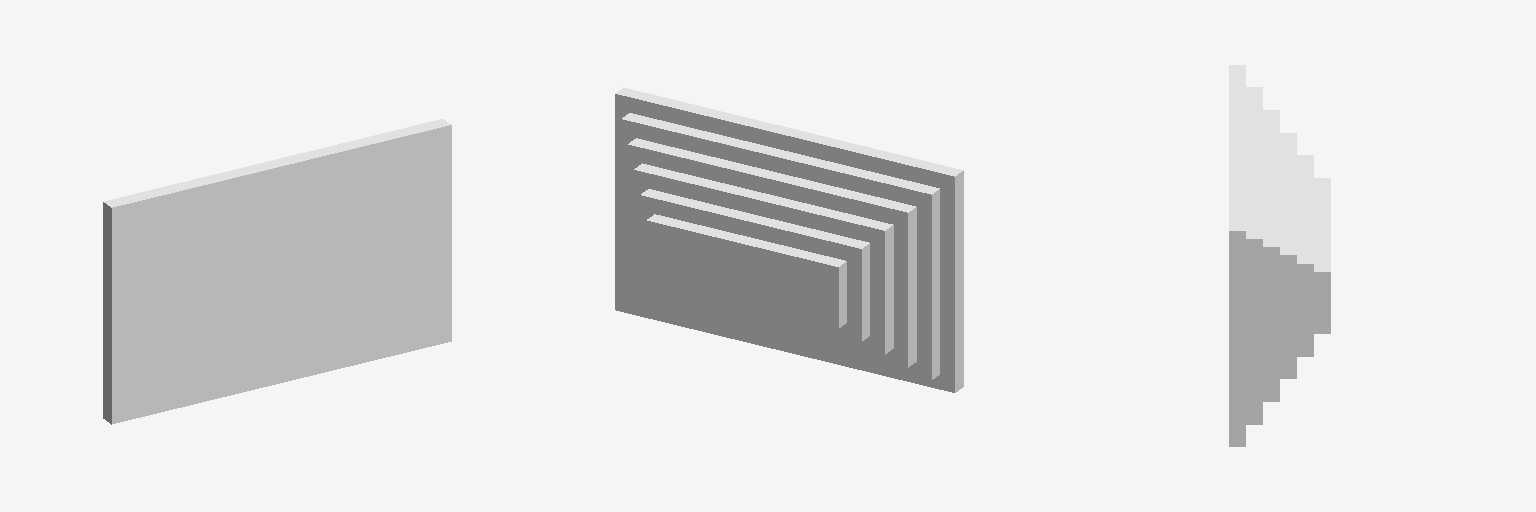
Rendered from GreenChestTop.obj.
3 renders of one model, left to right at view 1: azimuth 30°, elevation 25°; view 2: azimuth 150°, elevation 25°; view 3: azimuth 270°, elevation 25°, orthographic.
Visible parts, largest first — view 1: object 1; view 2: object 1; view 3: object 1.
Boxes of the visible parts, <box> form: object 1: <box>103,119,451,424</box>; object 1: <box>615,87,963,392</box>; object 1: <box>1229,65,1330,446</box>.
Bounding box in the file's own units: 2.3 × 1.4 × 0.6.